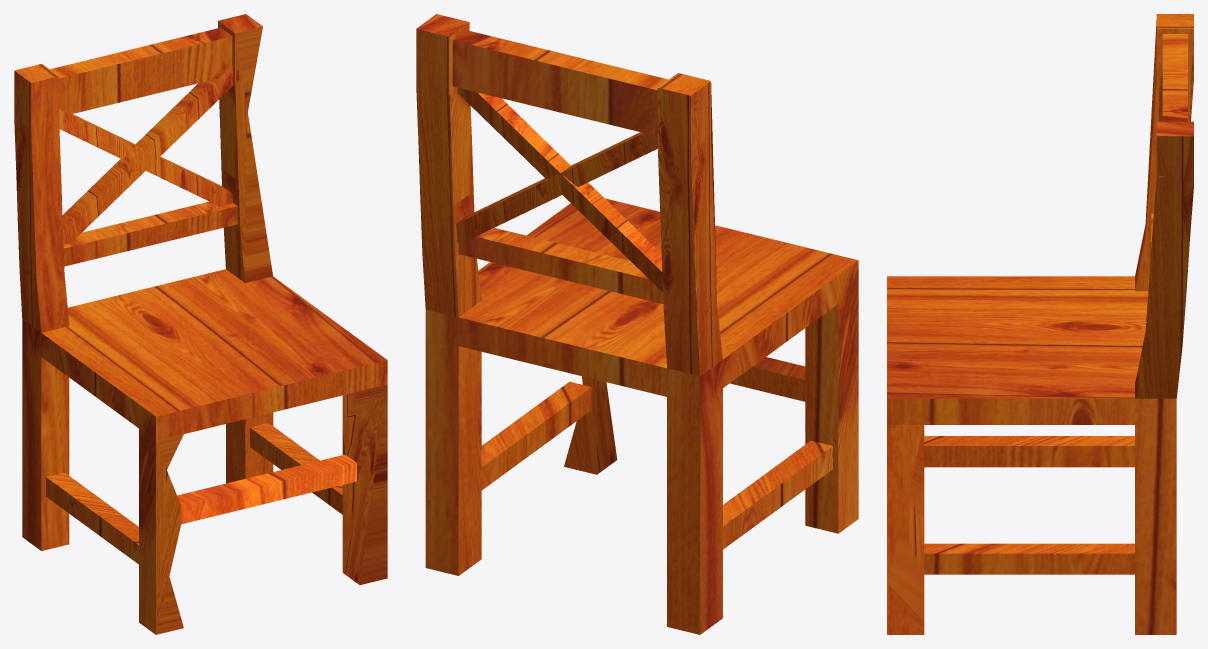
Rendered from cadeira.FBX.
3 renders of one model, left to right at view 1: azimuth 30°, elevation 25°; view 2: azimuth 150°, elevation 25°; view 3: azimuth 270°, elevation 25°, orthographic. The views are drawn at different scales.
Visible parts, largest first — view 1: Box001; view 2: Box001; view 3: Box001.
Part boxes in pixels (x1=…): Box001: x1=14, y1=14, x2=387, y2=634; Box001: x1=416, y1=14, x2=858, y2=634; Box001: x1=887, y1=14, x2=1193, y2=634.
Size of the model in its own units: 0.5 by 0.95 by 0.5295.
Materials: 1 (1 with a texture image).
